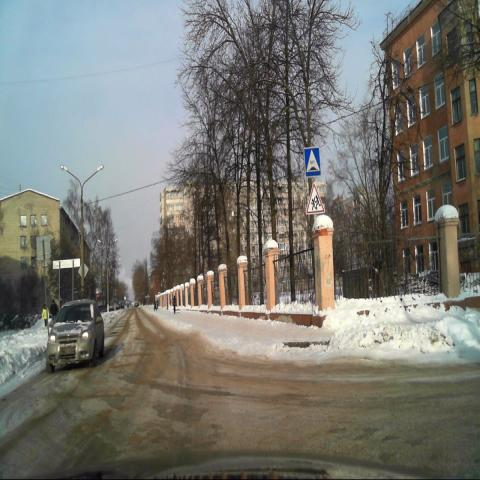1_23: (306, 183, 325, 214)
